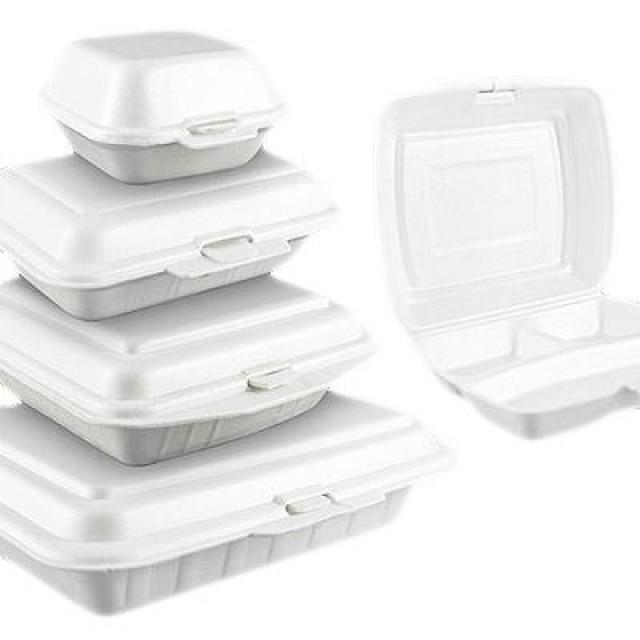styrofoam: (0, 392, 456, 620), (374, 75, 638, 440), (3, 276, 375, 465), (0, 150, 339, 324), (36, 28, 286, 185)
